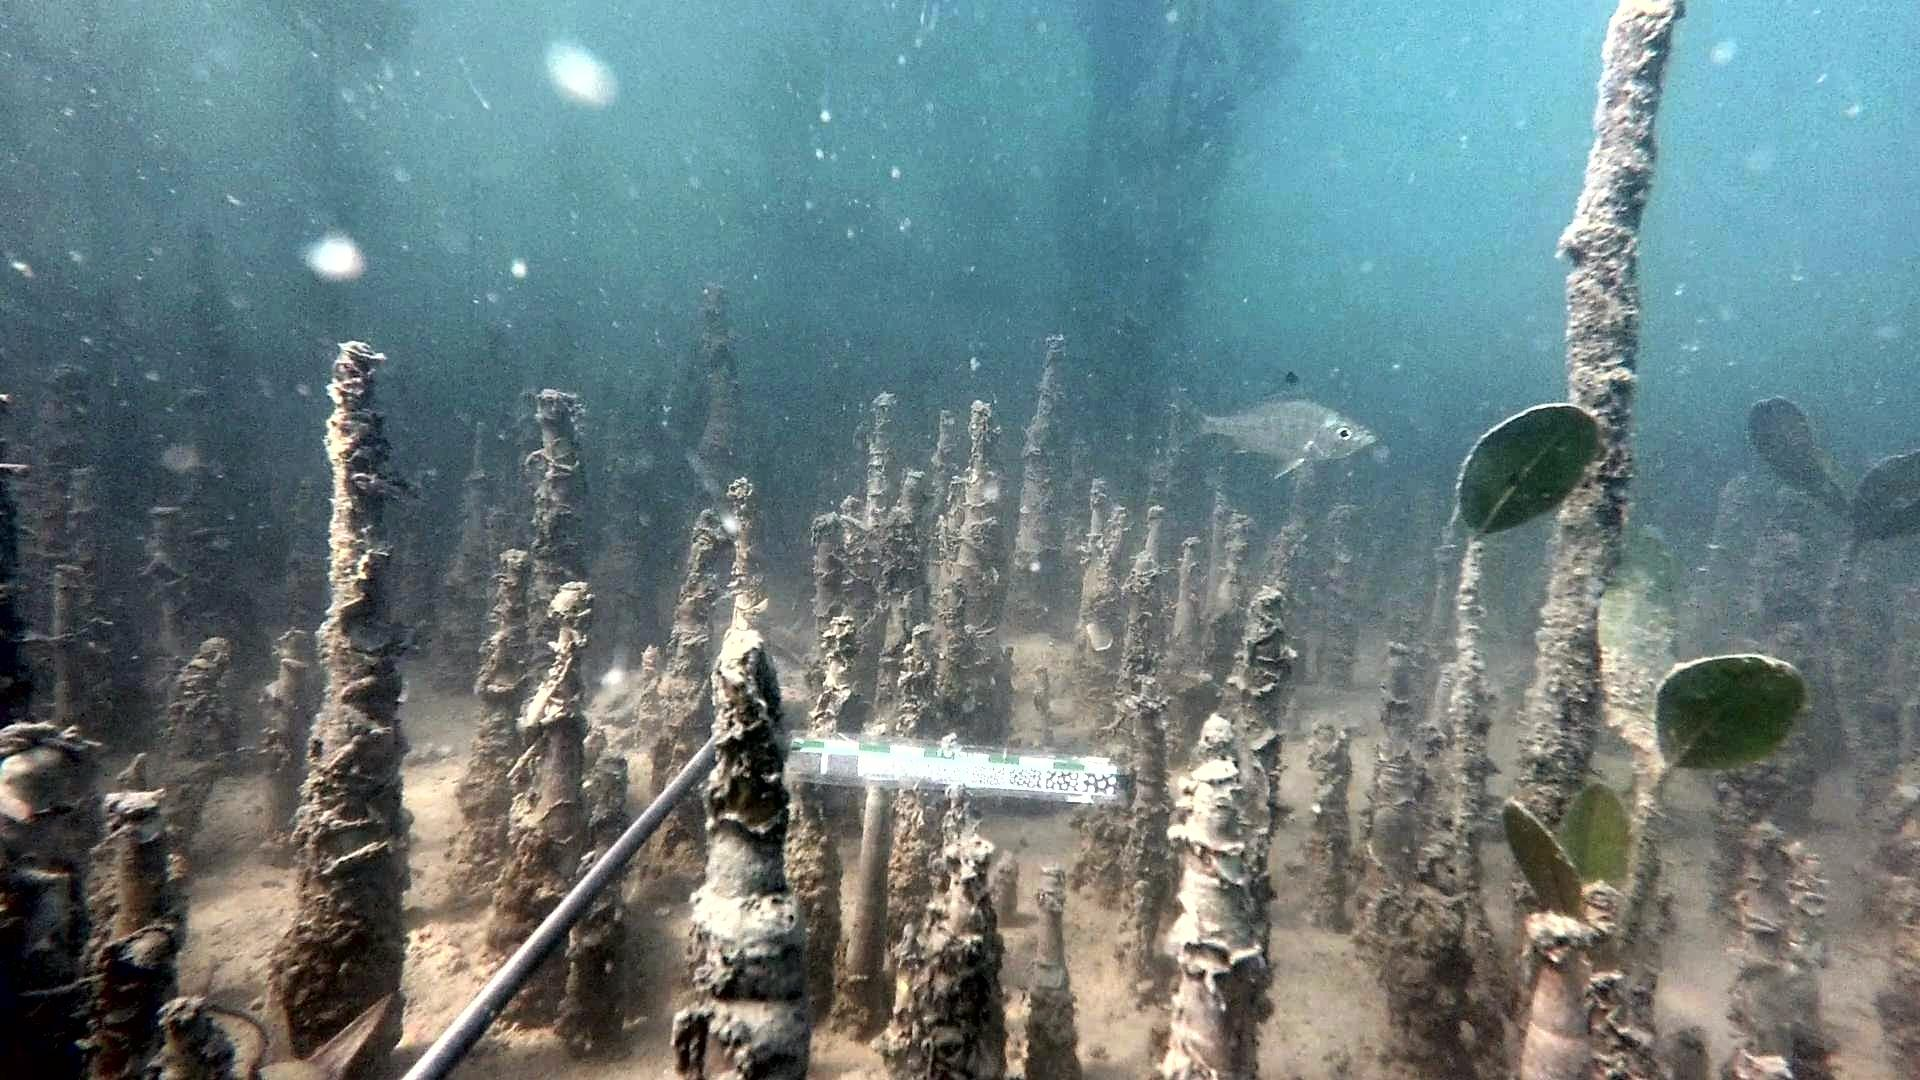gerres: (1171, 372, 1379, 480)
